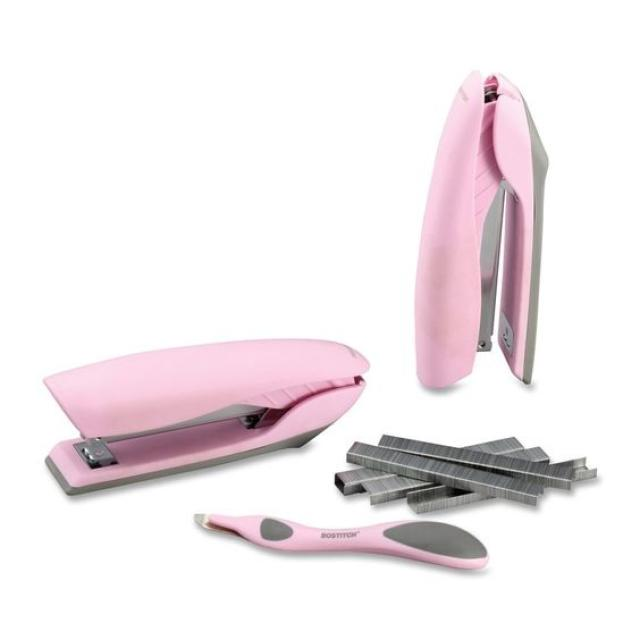Stapler: (24, 317, 362, 502)
